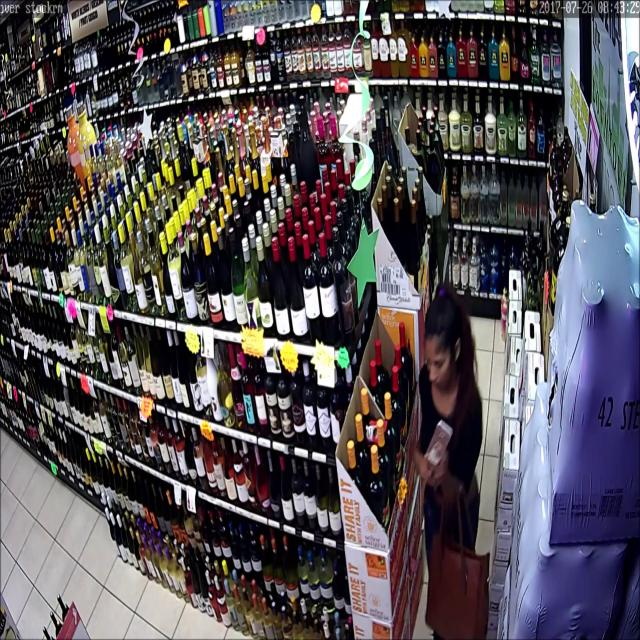normal: (398, 225, 520, 640)
